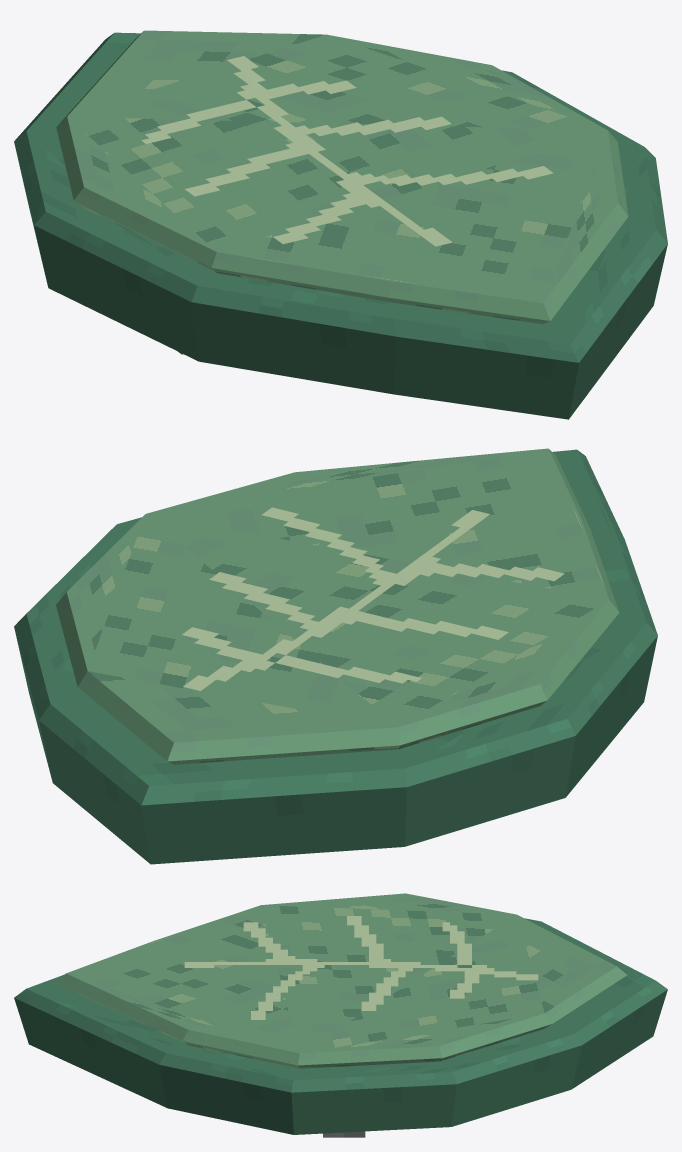
File: jade_brooch.glb
3 renders of one model, top to bottom at view 1: azimuth 30°, elevation 25°; view 2: azimuth 150°, elevation 25°; view 3: azimuth 270°, elevation 25°, orthographic. The views are drawn at different scales.
Visible parts, largest first — view 1: block_recessed face, block_beveled badge body, block_original printed emblem; view 2: block_recessed face, block_beveled badge body, block_original printed emblem; view 3: block_recessed face, block_beveled badge body, block_original printed emblem.
Part boxes in pixels (x1=…): block_recessed face: x1=56, y1=30, x2=628, y2=324; block_beveled badge body: x1=14, y1=32, x2=667, y2=419; block_original printed emblem: x1=141, y1=56, x2=553, y2=246; block_recessed face: x1=56, y1=448, x2=619, y2=764; block_beveled badge body: x1=14, y1=449, x2=657, y2=864; block_original printed emblem: x1=182, y1=507, x2=564, y2=690; block_recessed face: x1=55, y1=893, x2=626, y2=1068; block_beveled badge body: x1=14, y1=918, x2=667, y2=1134; block_original printed emblem: x1=184, y1=916, x2=538, y2=1019.
Size of the model in its own units: 0.0124 by 0.00309 by 0.0181.
Materials: 2 (2 with a texture image).
